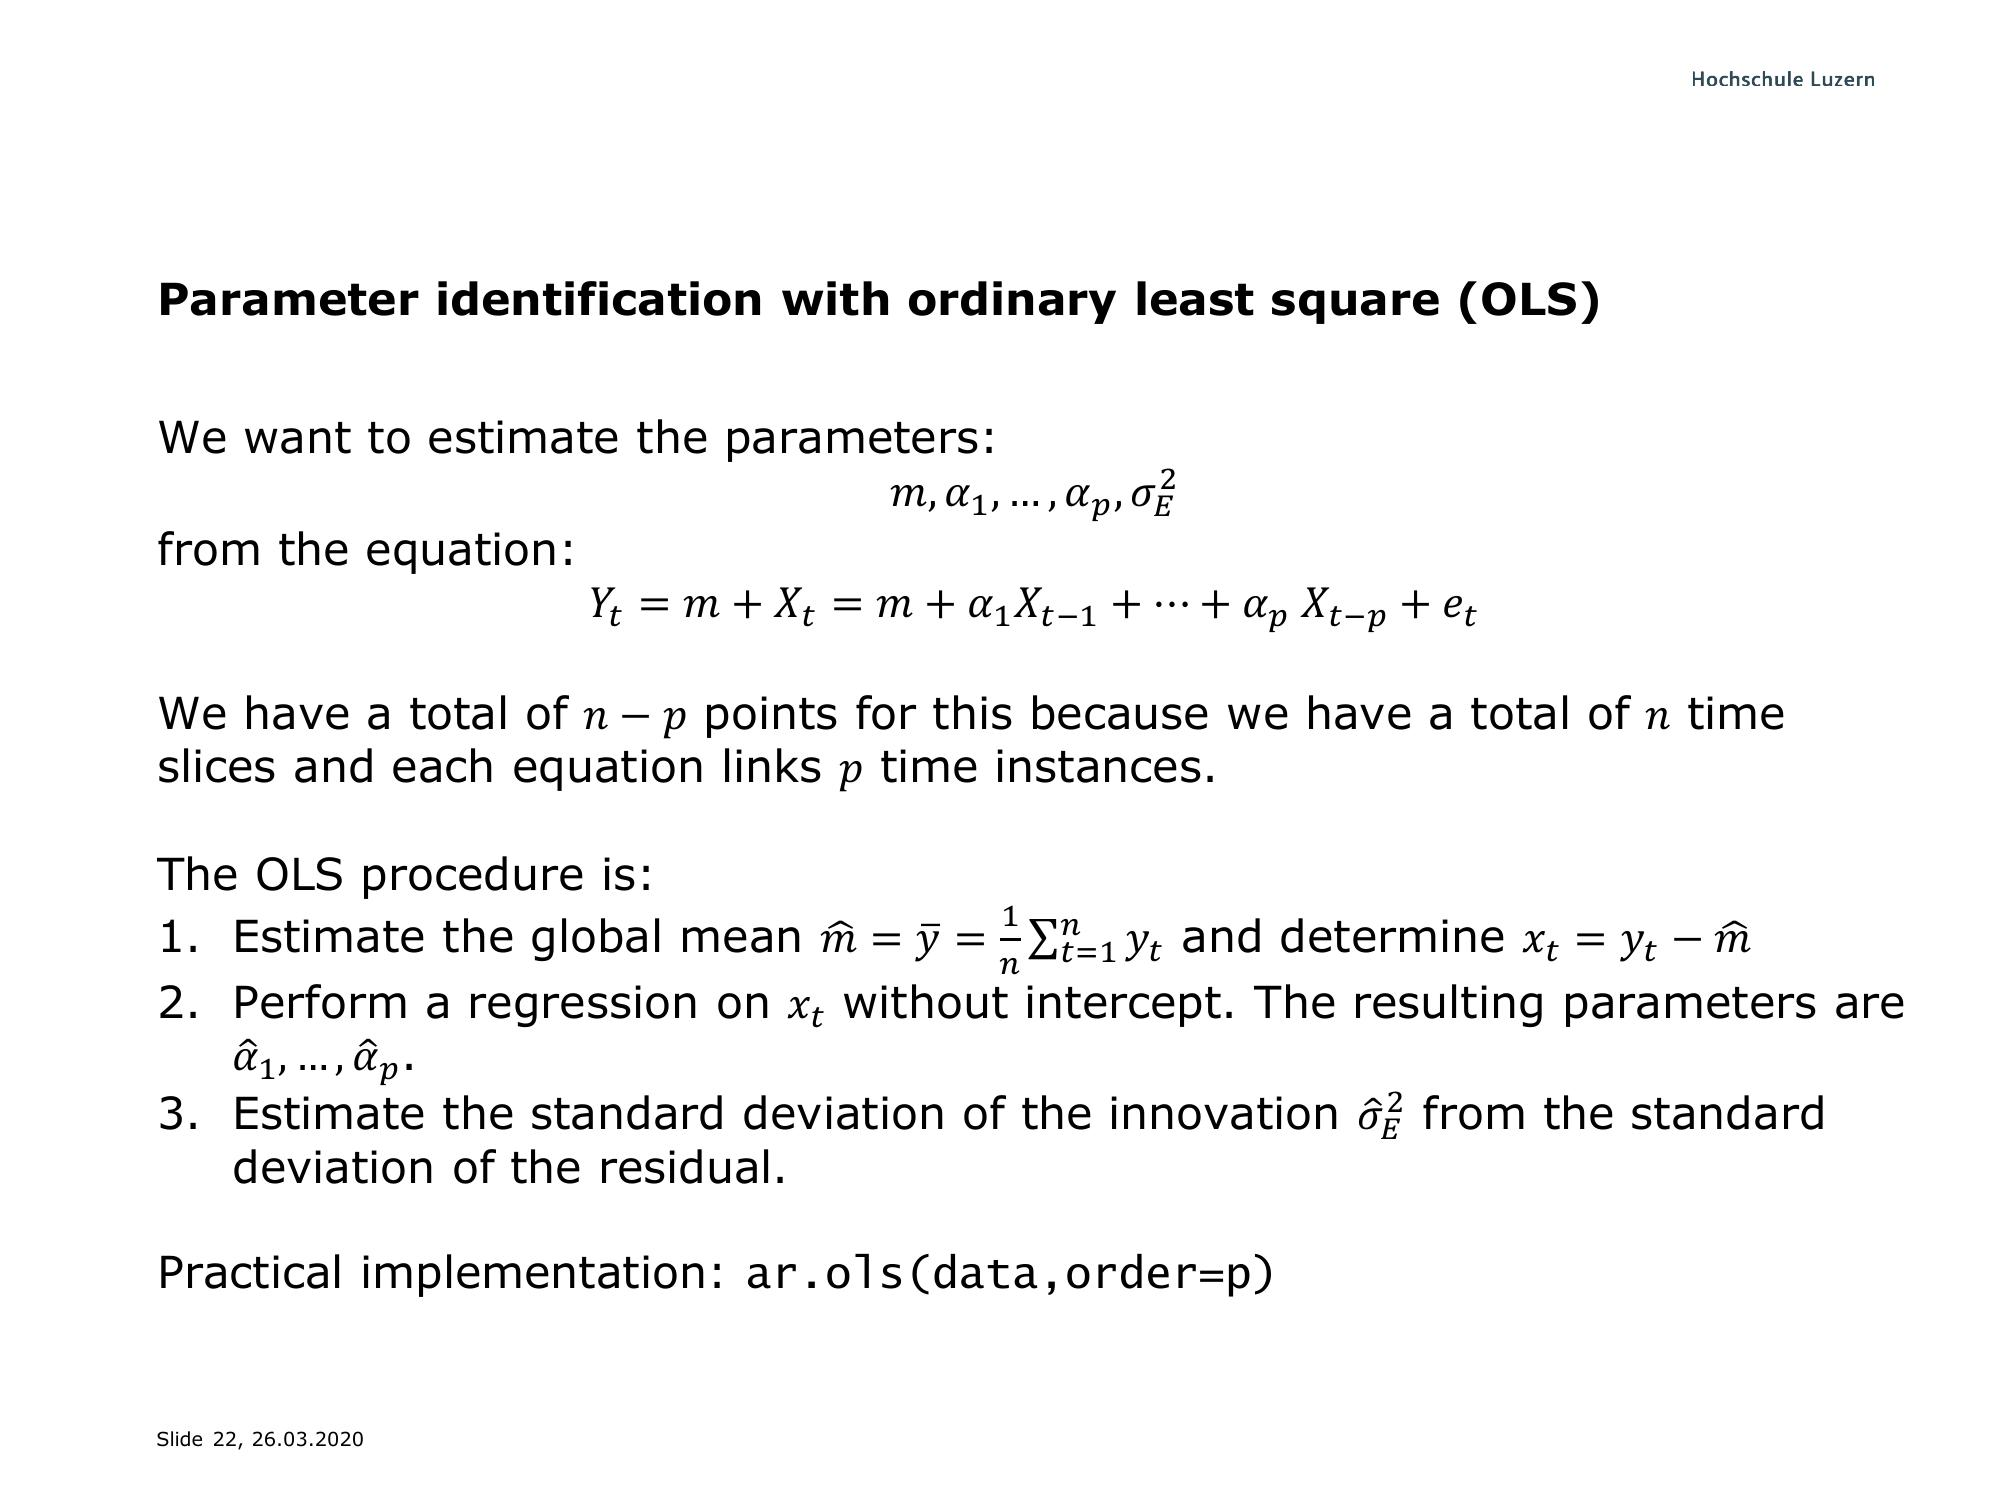Title: (146, 265, 1613, 334)
